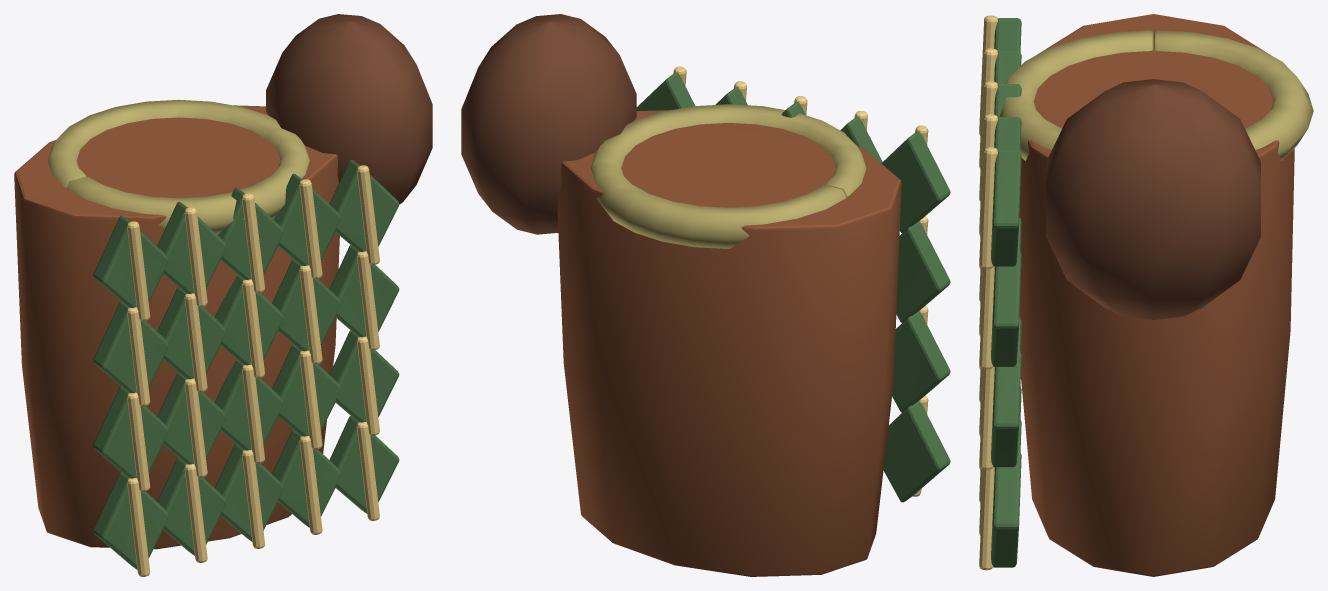
The model's file is item_052.glb.
3 views of the same model, side by side, from view 1: azimuth 30°, elevation 25°; view 2: azimuth 150°, elevation 25°; view 3: azimuth 270°, elevation 25° (orthographic). The views are drawn at different scales.
Visible parts, largest first — view 1: Item_052_bark_lamellar; view 2: Item_052_bark_lamellar; view 3: Item_052_bark_lamellar.
Boxes of the visible parts, x1=… form: Item_052_bark_lamellar: x1=14, y1=14, x2=432, y2=576; Item_052_bark_lamellar: x1=461, y1=14, x2=950, y2=576; Item_052_bark_lamellar: x1=979, y1=14, x2=1313, y2=576.
Size of the model in its own units: 0.5076 by 0.54 by 0.3175.
